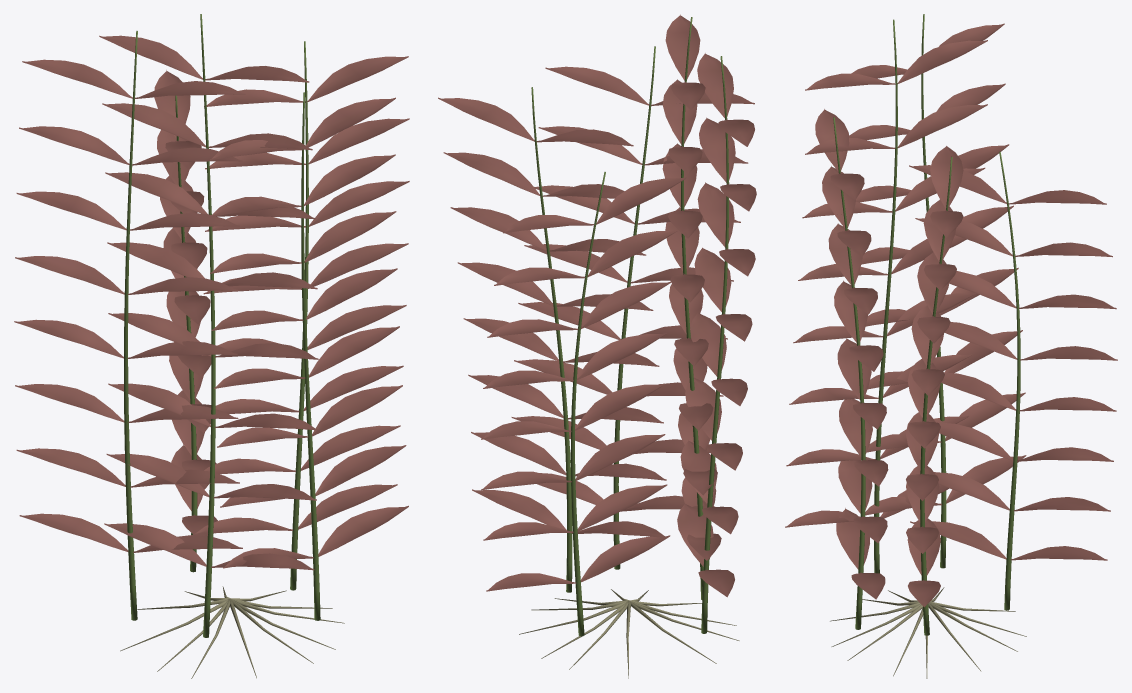
The model's file is alternanthera-mobile.glb.
3 renders of one model, left to right at view 1: azimuth 30°, elevation 25°; view 2: azimuth 150°, elevation 25°; view 3: azimuth 270°, elevation 25°, orthographic. The views are drawn at different scales.
Visible parts, largest first — view 1: opposite-leaf, branching-stem, anchoring-root; view 2: opposite-leaf, branching-stem, anchoring-root; view 3: opposite-leaf, branching-stem, anchoring-root.
Part boxes in pixels (bbox=[...]): opposite-leaf: bbox=[14, 35, 409, 570]; branching-stem: bbox=[124, 14, 320, 637]; anchoring-root: bbox=[120, 586, 344, 678]; opposite-leaf: bbox=[438, 14, 756, 597]; branching-stem: bbox=[531, 17, 729, 636]; anchoring-root: bbox=[519, 589, 739, 678]; opposite-leaf: bbox=[785, 23, 1117, 607]; branching-stem: bbox=[833, 14, 1020, 635]; anchoring-root: bbox=[830, 587, 1026, 678].
Size of the model in its own units: 0.4548 by 0.7811 by 0.398.
